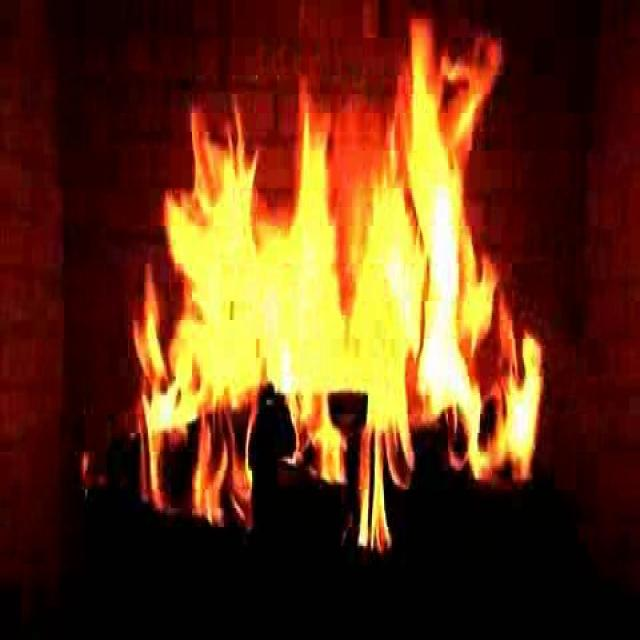fire: (151, 103, 528, 521)
